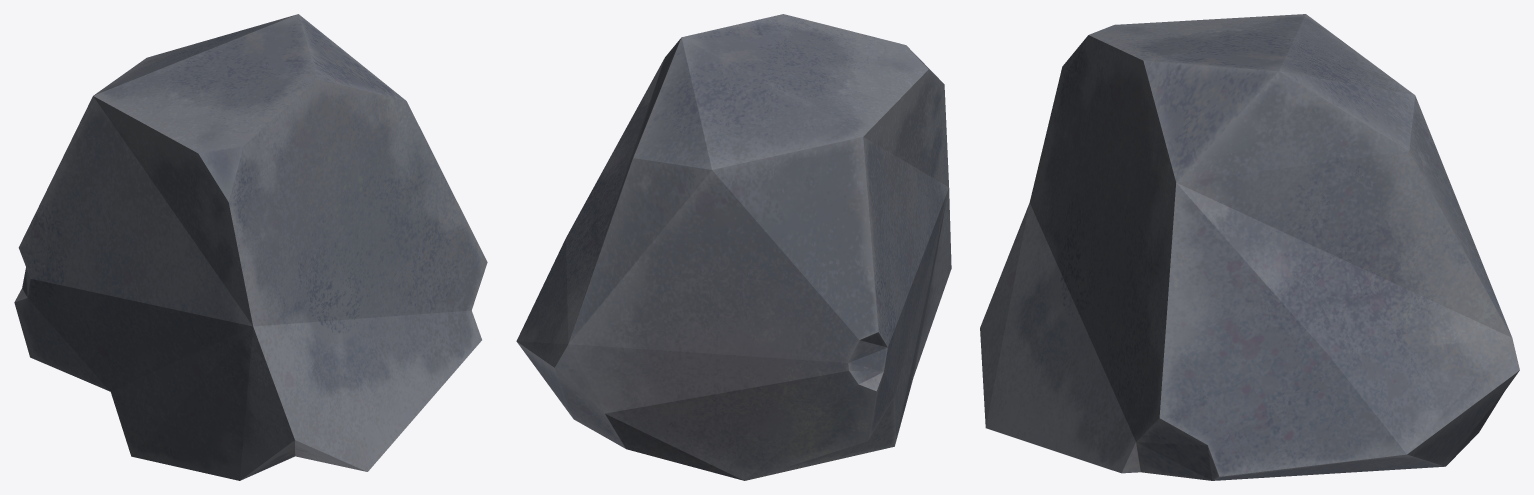
The model's file is stylized_rock_16.fbx.
3 views of the same model, side by side, from view 1: azimuth 30°, elevation 25°; view 2: azimuth 150°, elevation 25°; view 3: azimuth 270°, elevation 25° (orthographic). The views are drawn at different scales.
Parts seen in each view (by area): view 1: stylized_rock_16; view 2: stylized_rock_16; view 3: stylized_rock_16.
Part boxes in pixels (x1,y1,x2,y2): stylized_rock_16: (14, 14, 487, 480); stylized_rock_16: (516, 14, 951, 480); stylized_rock_16: (980, 14, 1519, 480).
Size of the model in its own units: 71.42 by 67.47 by 77.46.
